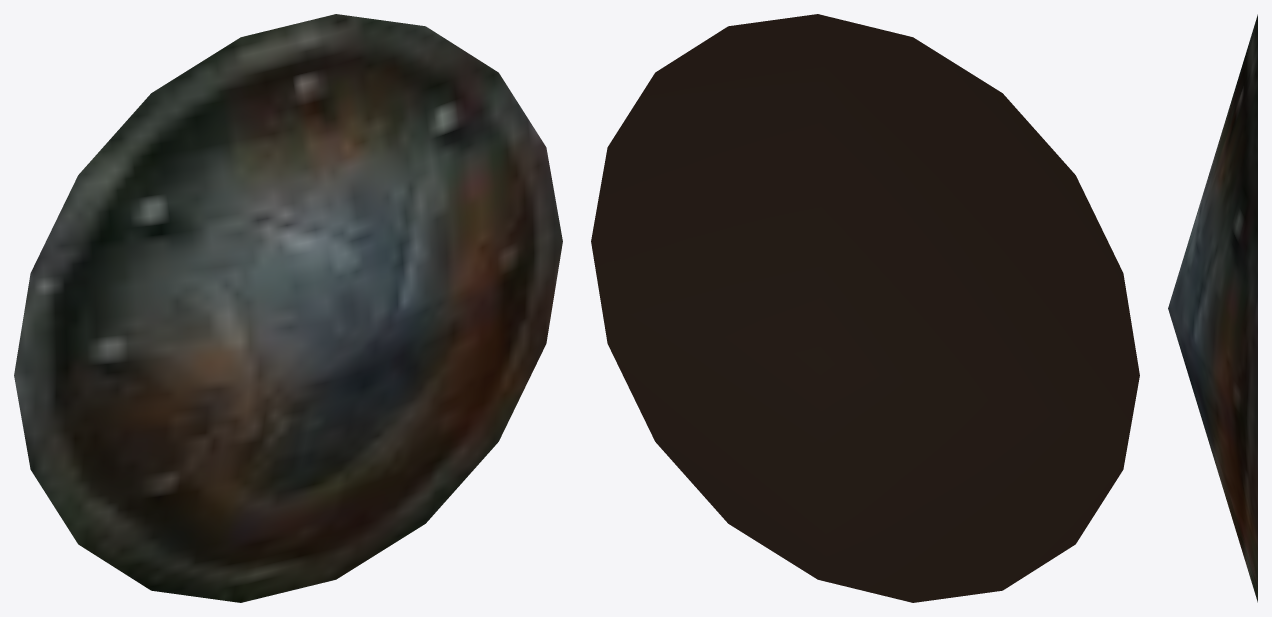
File: Fort14.glb
The picture shows the model from 3 angles, left to right: view 1: azimuth 30°, elevation 25°; view 2: azimuth 150°, elevation 25°; view 3: azimuth 270°, elevation 25°; orthographic projection. The views are drawn at different scales.
Visible parts, largest first — view 1: model_Fort14; view 2: model_Fort14; view 3: model_Fort14.
Boxes of the visible parts, bbox=[...] form: model_Fort14: bbox=[14, 14, 562, 602]; model_Fort14: bbox=[591, 14, 1139, 602]; model_Fort14: bbox=[1168, 14, 1257, 602].
Size of the model in its own units: 0.7812 by 0.7693 by 0.1188.
Materials: 1 (1 with a texture image).
